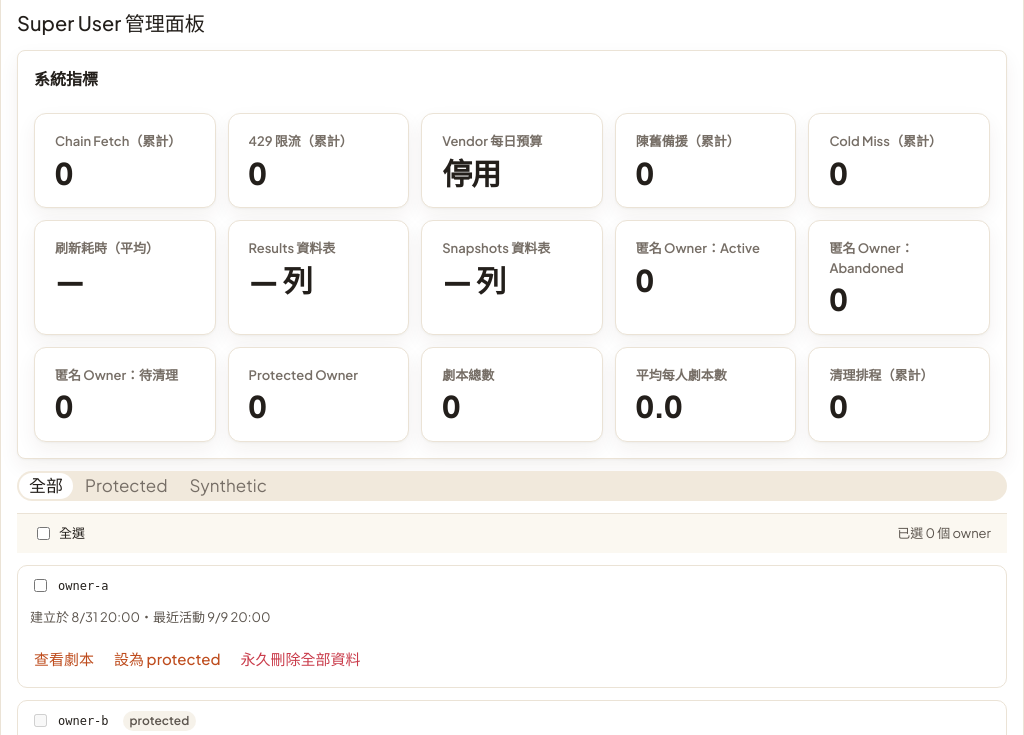
Test: SuperUserAdmin › 剛被設成 protected 的 owner 會從批次選取中剔除（Codex P2，PR #351）
Expected: the text "owner-a" is shown, x1=58 y1=576 x2=109 y2=594
Click the checkbox named "選取 owner owner-a" at (40, 586), box x1=34 y1=579 x2=47 y2=592
(page scrolled)
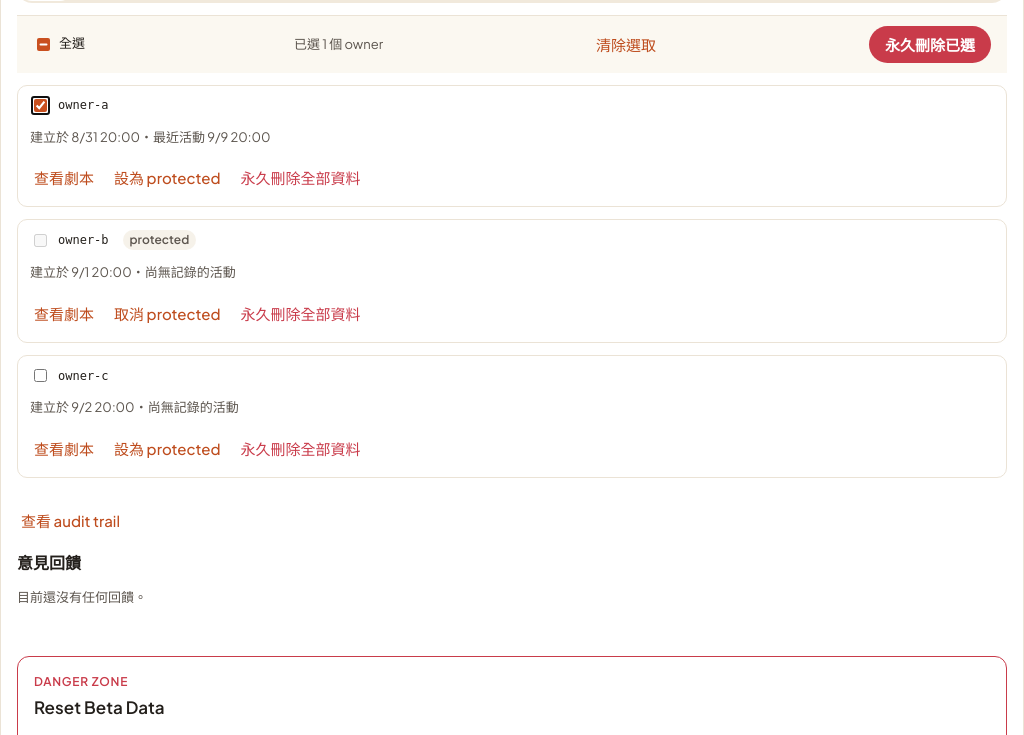
Click the checkbox named "選取 owner owner-c" at (40, 376), box x1=34 y1=369 x2=47 y2=382
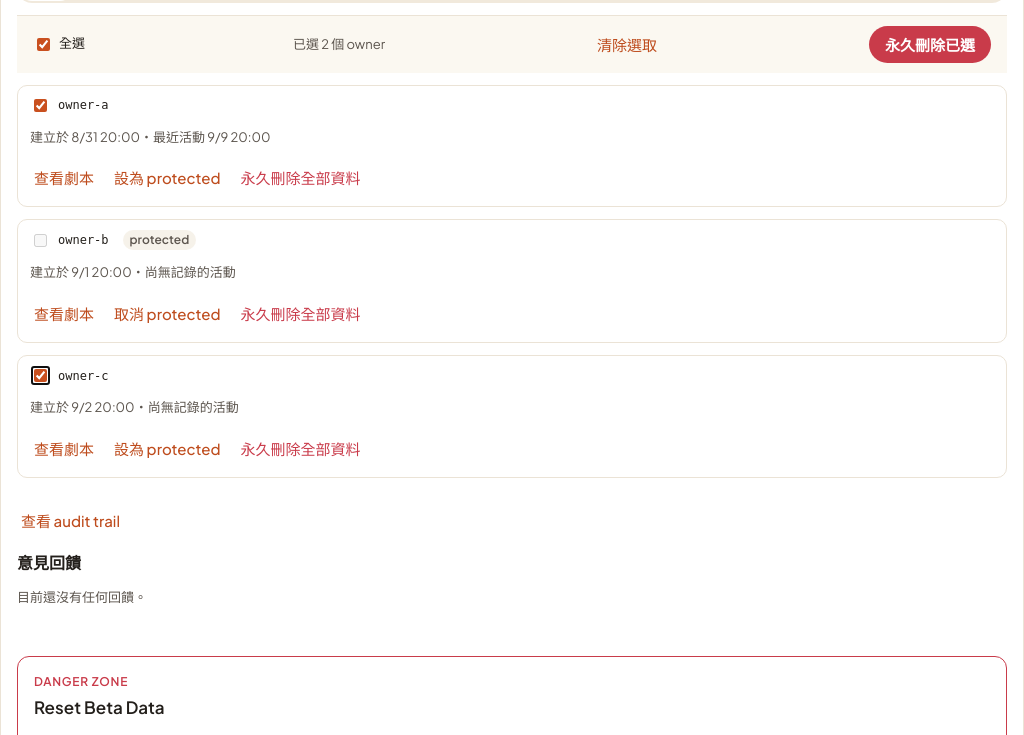
Expected: the text "已選 2 個 owner" is shown, x1=293 y1=35 x2=385 y2=53
Click the button "設為 protected" below "owner-a" at (167, 178), box x1=110 y1=159 x2=224 y2=196
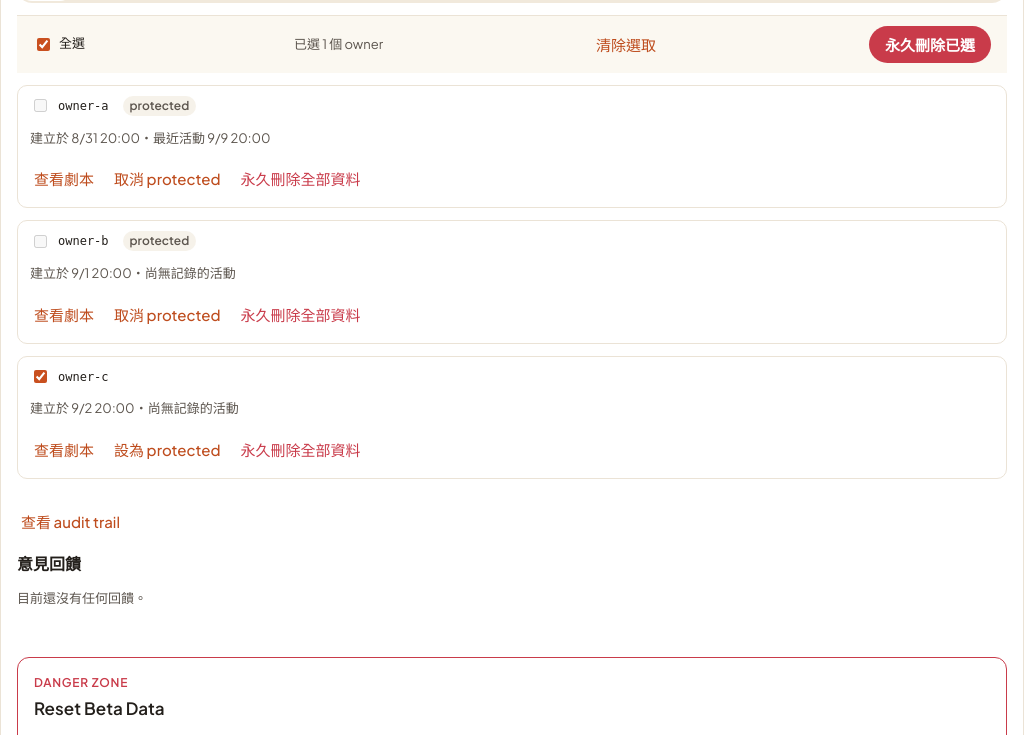
Expected: the checkbox named "選取 owner owner-a" is not checked, x1=34 y1=99 x2=47 y2=112
Expected: the text "已選 1 個 owner" is shown, x1=294 y1=35 x2=383 y2=53
